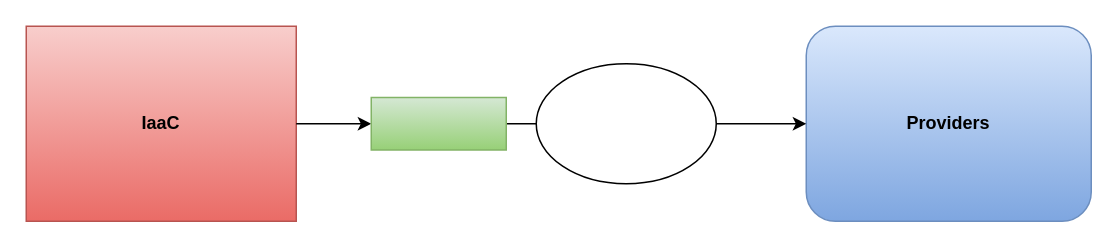
Some shapes in this 1118 by 248 pixel diagram are drawn without their labels. The shapes that lost their labels are listed below. From the top down, each one's box as (x1, y1, x2, y2) in pixels, then its label:
(370, 96, 506, 150): Auth
(535, 62, 716, 184): API
